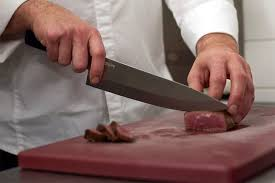knife: (23, 22, 240, 117)
